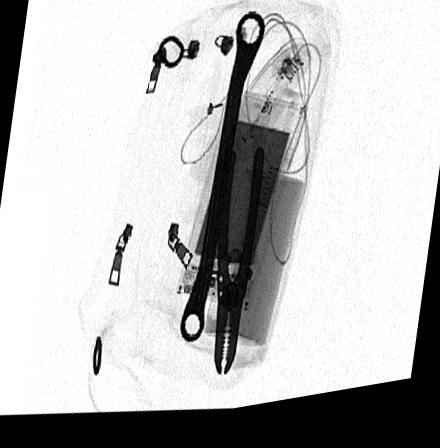Pliers: (213, 153, 266, 382)
Powerbank: (176, 99, 300, 320)
Wrench: (179, 21, 264, 349)
